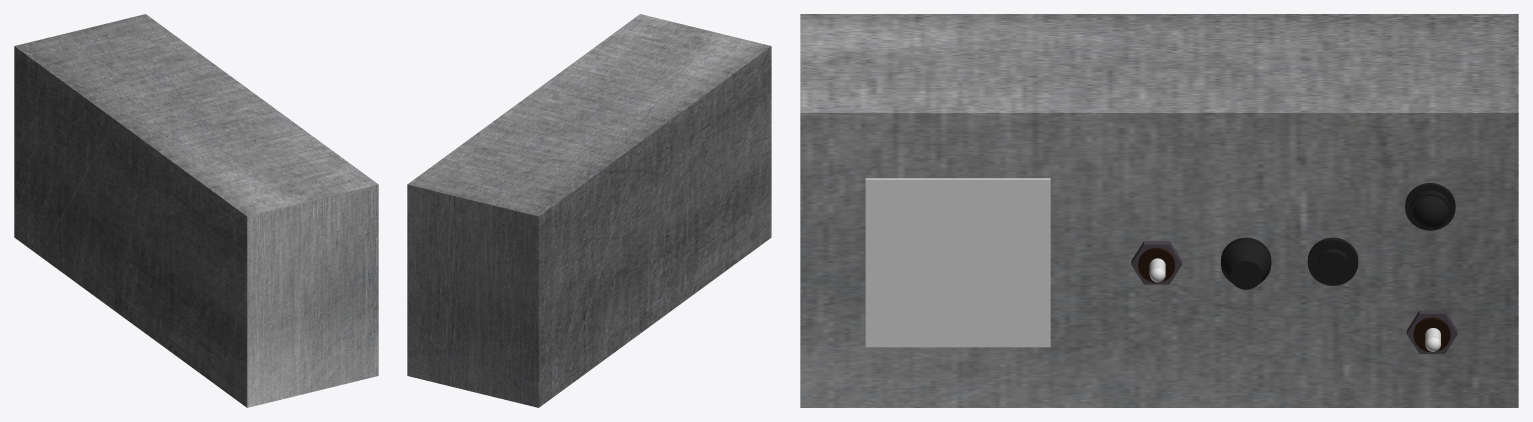
File: коробочка1.fbx
3 renders of one model, left to right at view 1: azimuth 30°, elevation 25°; view 2: azimuth 150°, elevation 25°; view 3: azimuth 270°, elevation 25°, orthographic. The views are drawn at different scales.
Parts seen in each view (by area): view 1: Cube; view 2: Cube; view 3: Cube, Cube.001, Cylinder.001, Cylinder.002, Sphere, Cylinder.009, Cylinder.010, Cylinder.006, Cylinder.011, Cylinder.007, Cylinder.003.
Part boxes in pixels (box(x1,y1,x2,y2)): Cube: box(14, 14, 378, 407); Cube: box(407, 14, 771, 407); Cube: box(800, 14, 1518, 407); Cube.001: box(865, 178, 1050, 347); Cylinder.001: box(1221, 241, 1271, 289); Cylinder.002: box(1307, 237, 1358, 285); Sphere: box(1412, 190, 1448, 228); Cylinder.009: box(1317, 249, 1348, 280); Cylinder.010: box(1406, 310, 1457, 353); Cylinder.006: box(1131, 241, 1182, 284); Cylinder.011: box(1413, 317, 1450, 352); Cylinder.007: box(1138, 247, 1174, 282); Cylinder.003: box(1405, 183, 1455, 230).
Size of the model in its own units: 110 by 130 by 287.
